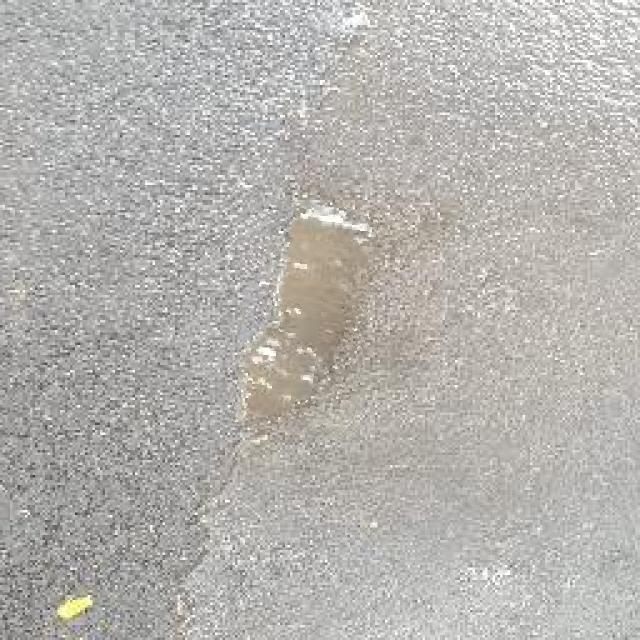puddle: (237, 202, 374, 438)
